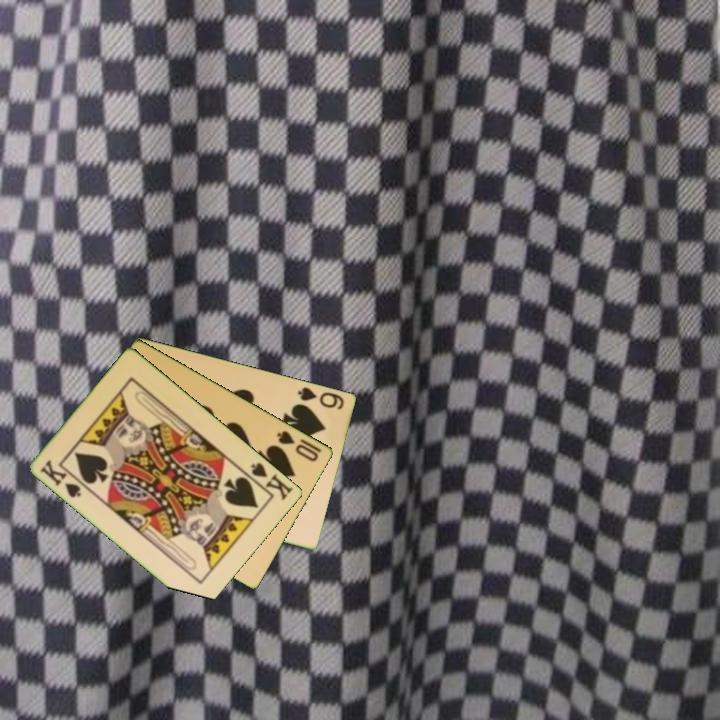10s: (273, 427, 322, 464)
6s: (295, 383, 347, 413)
Ks: (241, 459, 296, 503), (37, 456, 85, 501)
